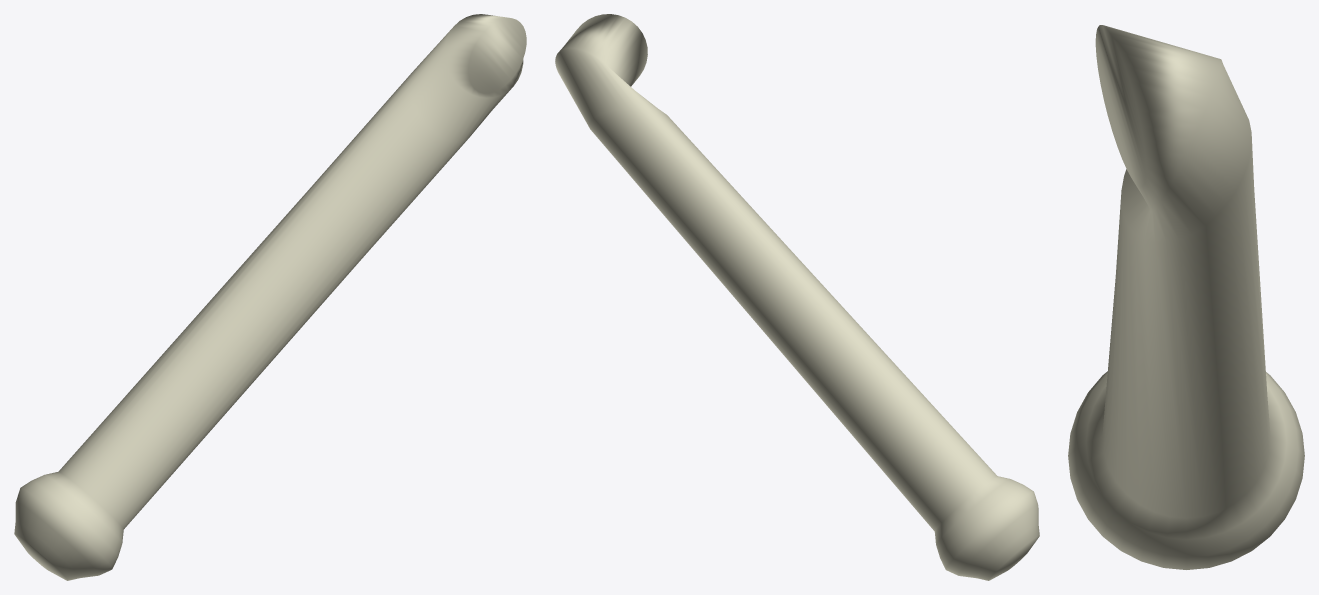
Rendered from left.glb.
3 renders of one model, left to right at view 1: azimuth 30°, elevation 25°; view 2: azimuth 150°, elevation 25°; view 3: azimuth 270°, elevation 25°, orthographic. The views are drawn at different scales.
Visible parts, largest first — view 1: Cylinder.001; view 2: Cylinder.001; view 3: Cylinder.001.
Part boxes in pixels (x1=…): Cylinder.001: x1=14, y1=14, x2=526, y2=580; Cylinder.001: x1=555, y1=14, x2=1039, y2=580; Cylinder.001: x1=1068, y1=25, x2=1304, y2=569.
Size of the model in its own units: 13.15 by 11.82 by 2.81.
